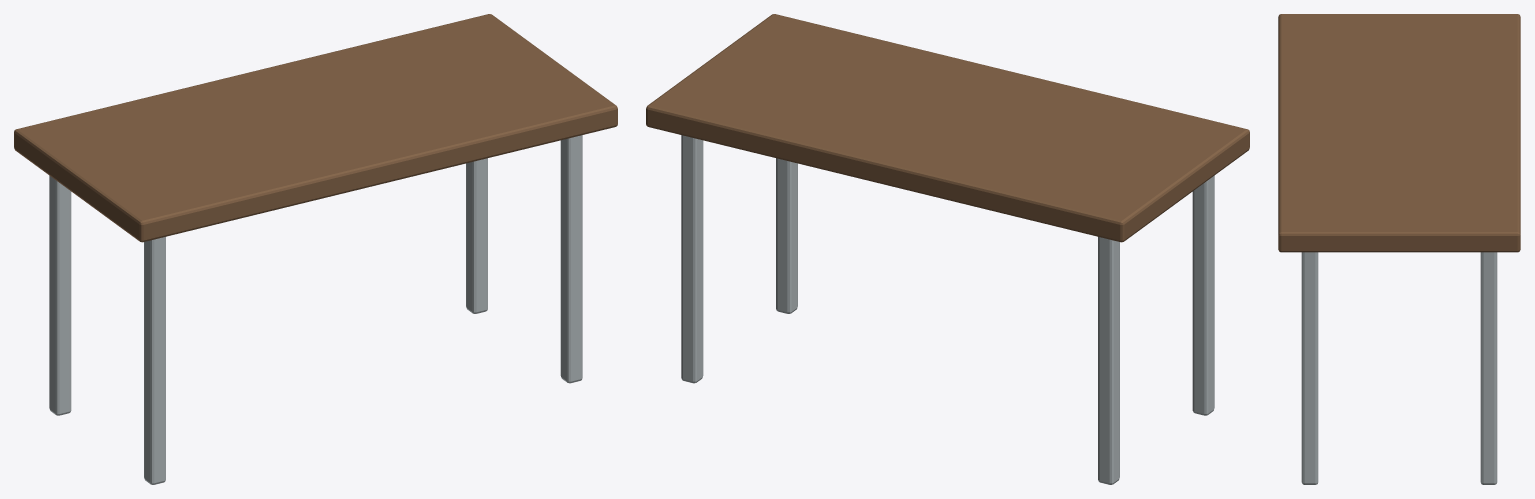
Rendered from BedroomDesk.fbx.
3 renders of one model, left to right at view 1: azimuth 30°, elevation 25°; view 2: azimuth 150°, elevation 25°; view 3: azimuth 270°, elevation 25°, orthographic. The views are drawn at different scales.
Visible parts, largest first — view 1: Desktop, Leg.002, Leg, Leg.001, Leg.003; view 2: Desktop, Leg.003, Leg.001, Leg, Leg.002; view 3: Desktop, Leg.002, Leg.003.
Boxes of the visible parts, x1,y1,x2,y2 form: Desktop: (14,14,617,242); Leg.002: (560,135,582,383); Leg: (144,237,165,484); Leg.001: (49,175,71,415); Leg.003: (466,158,487,313); Desktop: (646,14,1249,242); Leg.003: (681,135,703,383); Leg.001: (1098,237,1119,484); Leg: (1192,175,1214,415); Leg.002: (776,158,797,313); Desktop: (1278,14,1520,252); Leg.002: (1301,252,1318,484); Leg.003: (1480,252,1497,484).
Size of the model in its own units: 140 by 78 by 65.
